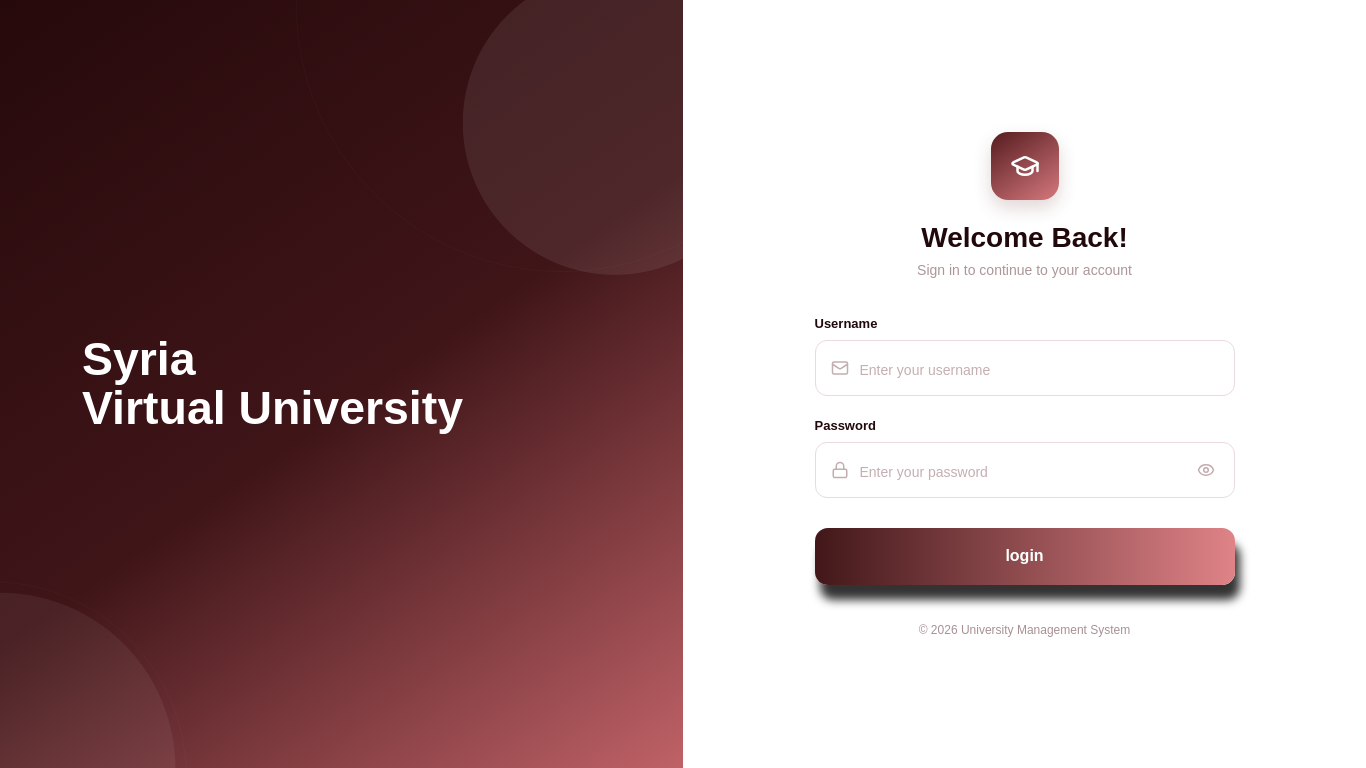
Scenario: shows a message instead of crashing when the login API returns 404
Type "student" into the field with placeholder "Enter your username" at (1039, 370), box top-left (860, 347), bottom-right (1218, 393)
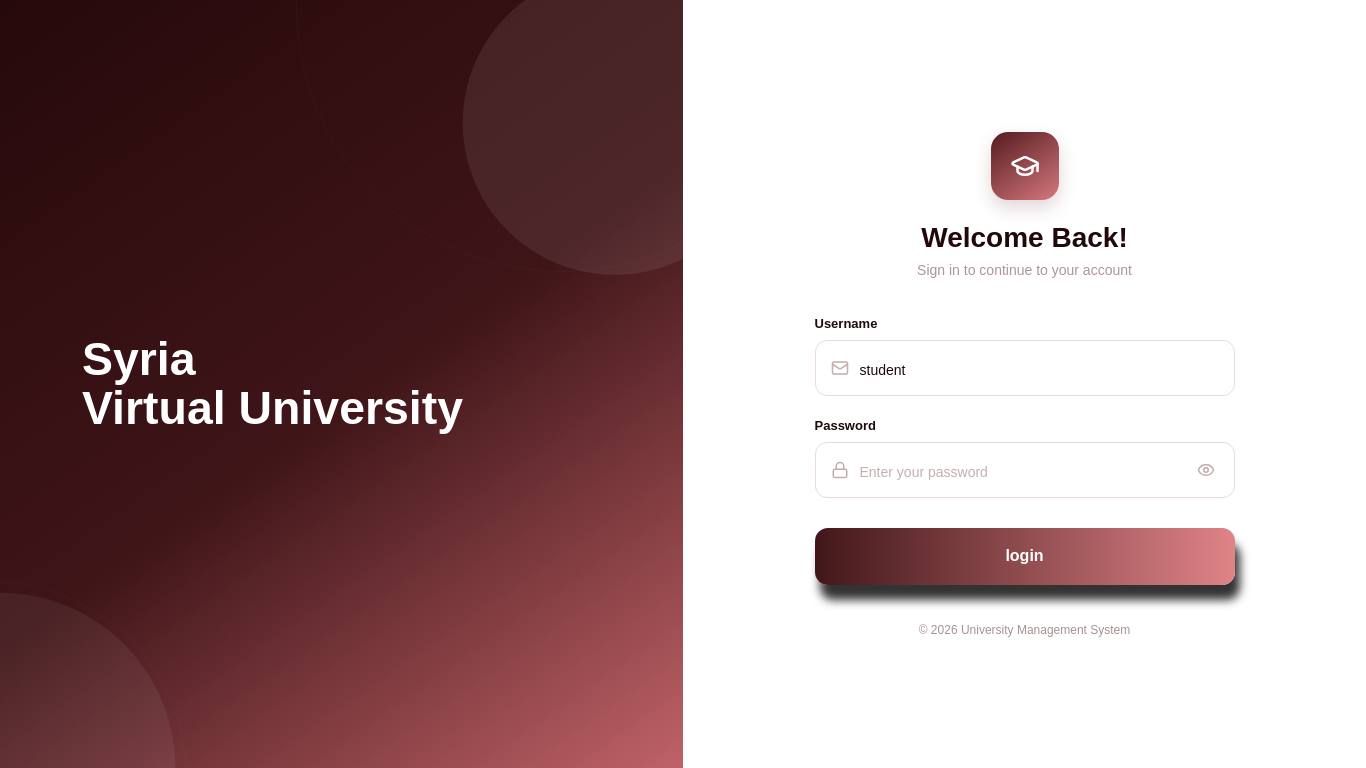
Type "wrong-password" into the password field with placeholder "Enter your password" at (1020, 472), box top-left (860, 449), bottom-right (1182, 495)
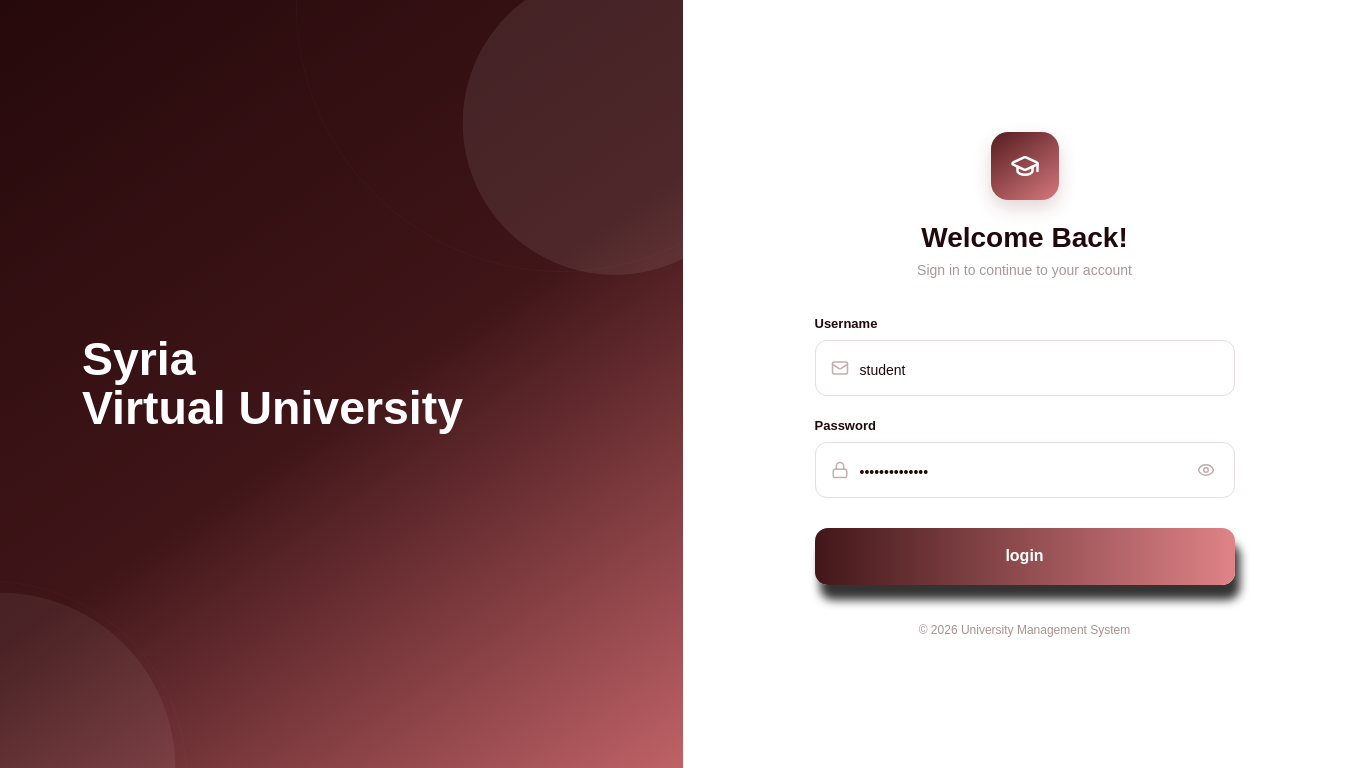
Click the button "login" at (1024, 556), box top-left (814, 528), bottom-right (1234, 584)
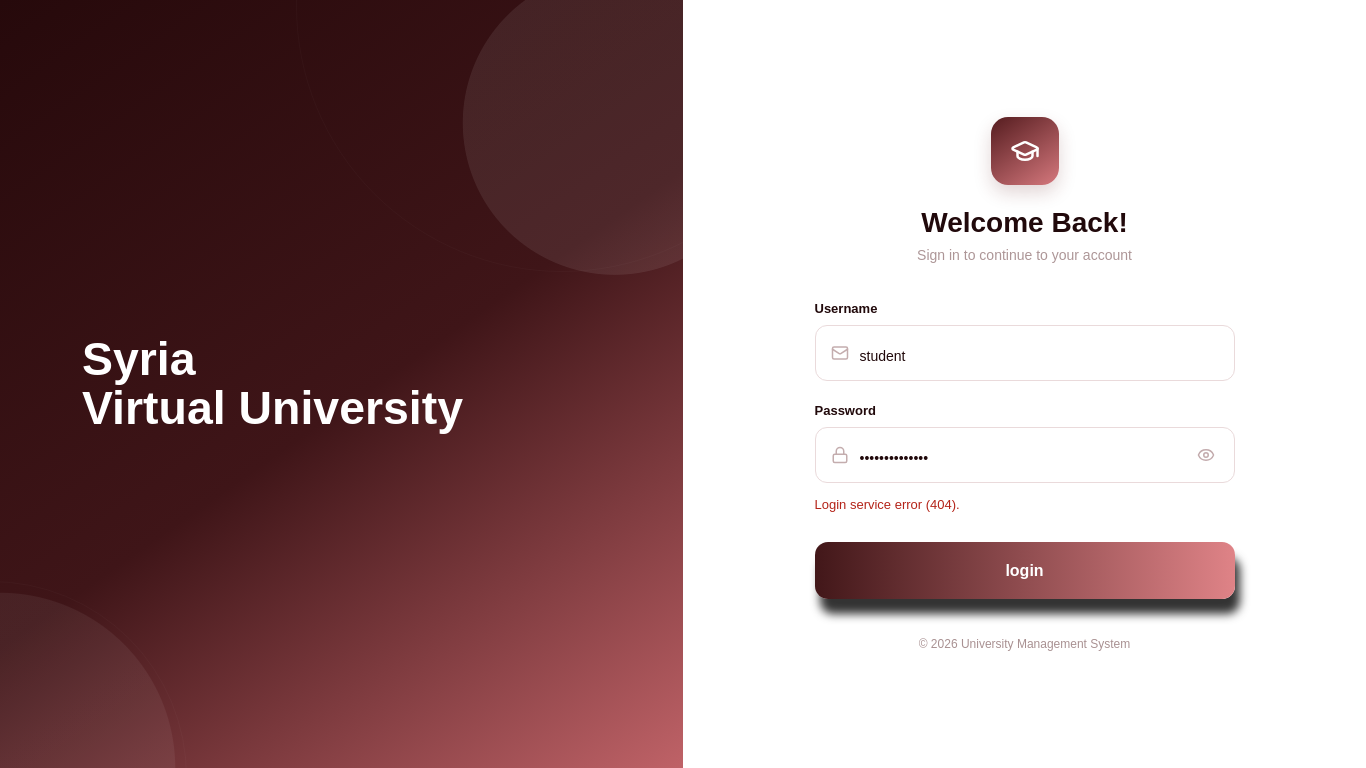
Result: the text "Login service error (404)." is shown at top-left (814, 497), bottom-right (960, 512)
